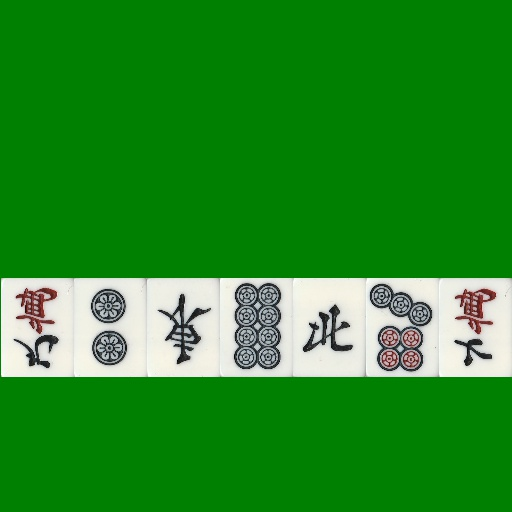2p: (74, 278, 147, 377)
7m: (439, 278, 512, 377)
7p: (366, 278, 439, 377)
8p: (220, 278, 293, 377)
9m: (1, 278, 74, 377)
east: (147, 278, 220, 377)
north: (293, 278, 366, 377)
